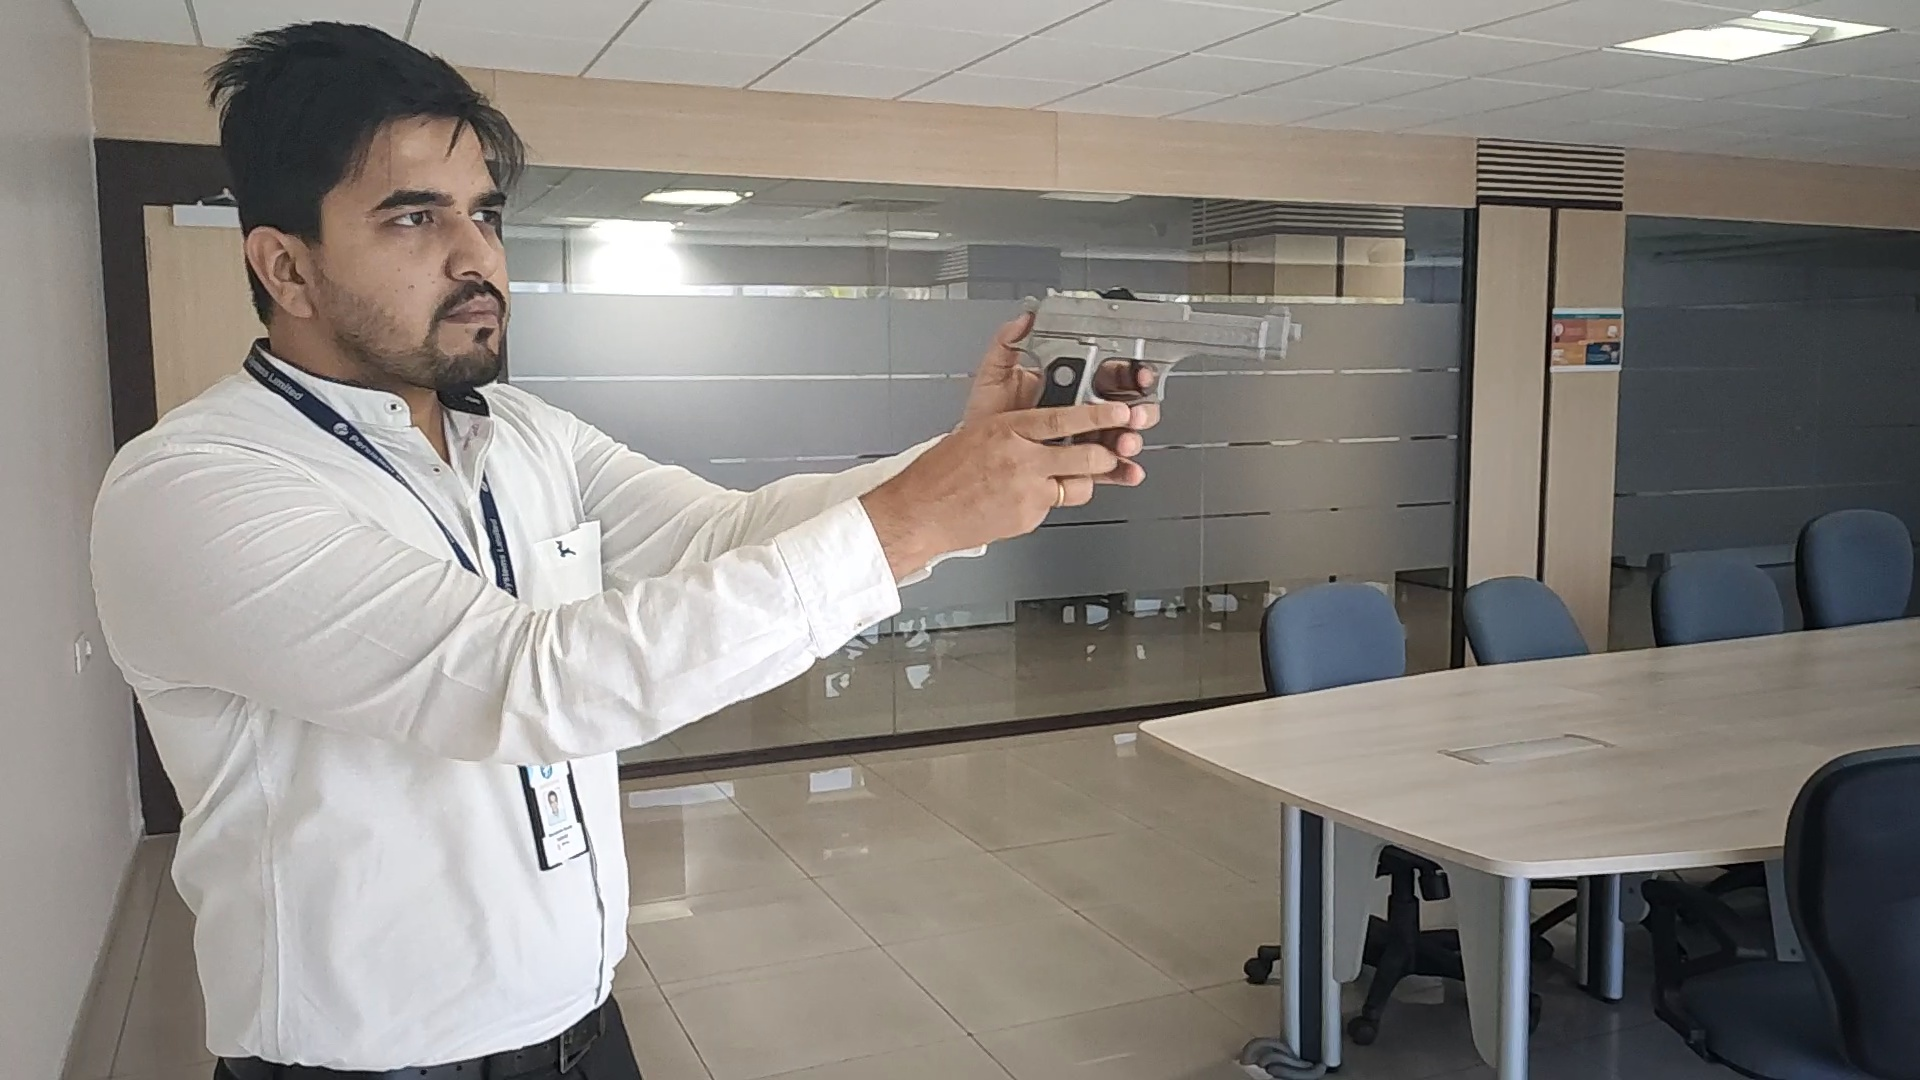gun: (1007, 287, 1303, 410)
